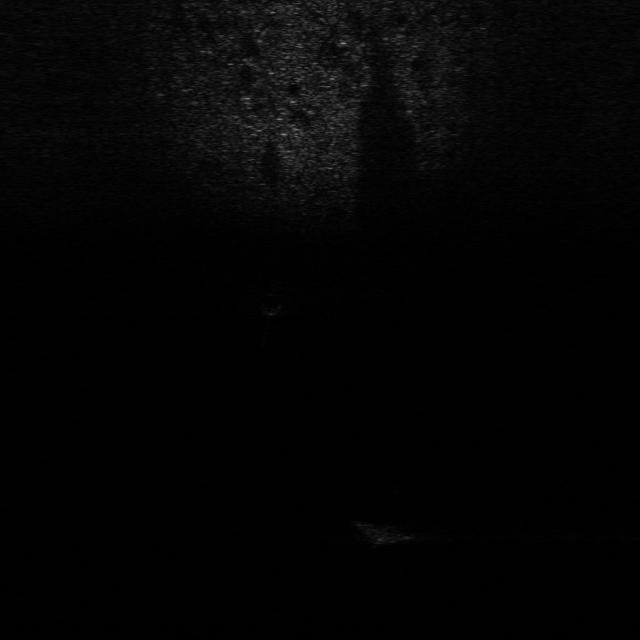ball: (262, 300, 288, 315)
metal bucket: (358, 510, 428, 546)
